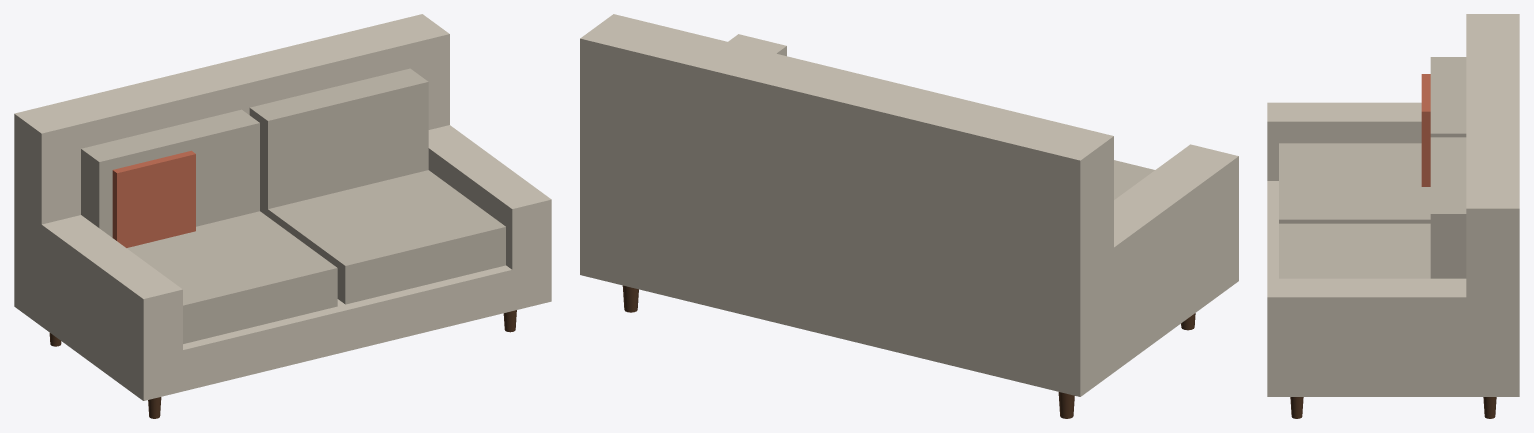
The model's file is sofa_2seater.glb.
3 renders of one model, left to right at view 1: azimuth 30°, elevation 25°; view 2: azimuth 150°, elevation 25°; view 3: azimuth 270°, elevation 25°, orthographic. The views are drawn at different scales.
Bounding box in the file's own units: 1.55 × 0.82 × 0.85.
